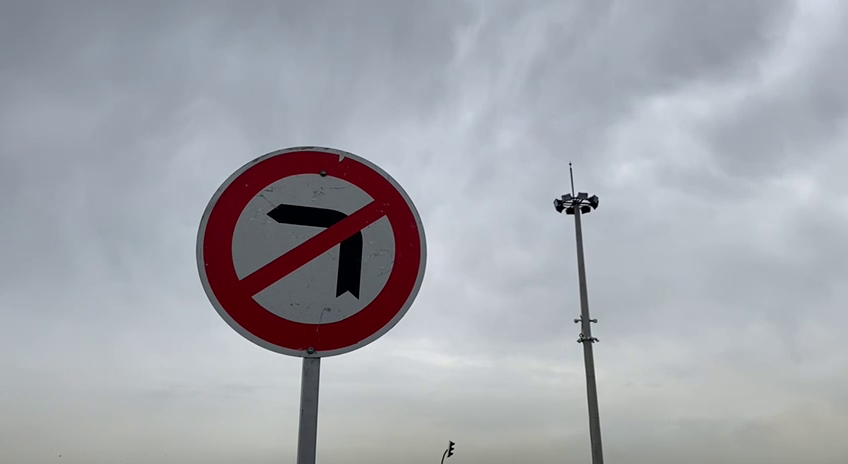noTurnLeft: (192, 139, 433, 362)
